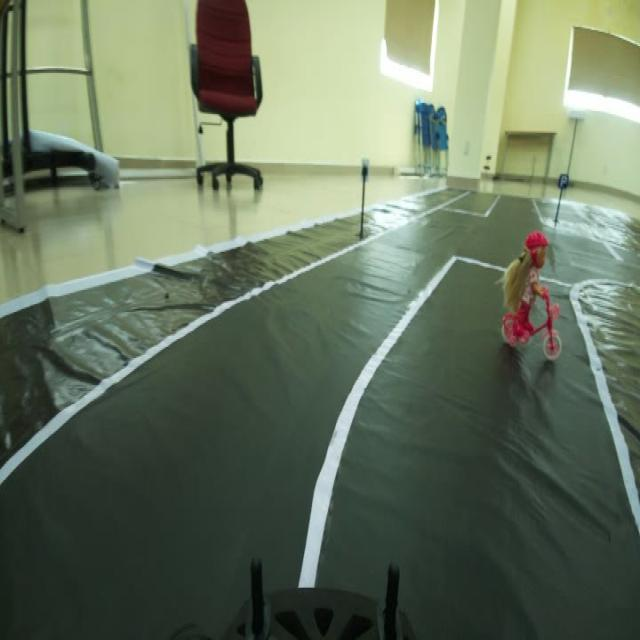pedestrian: (499, 218, 564, 370)
